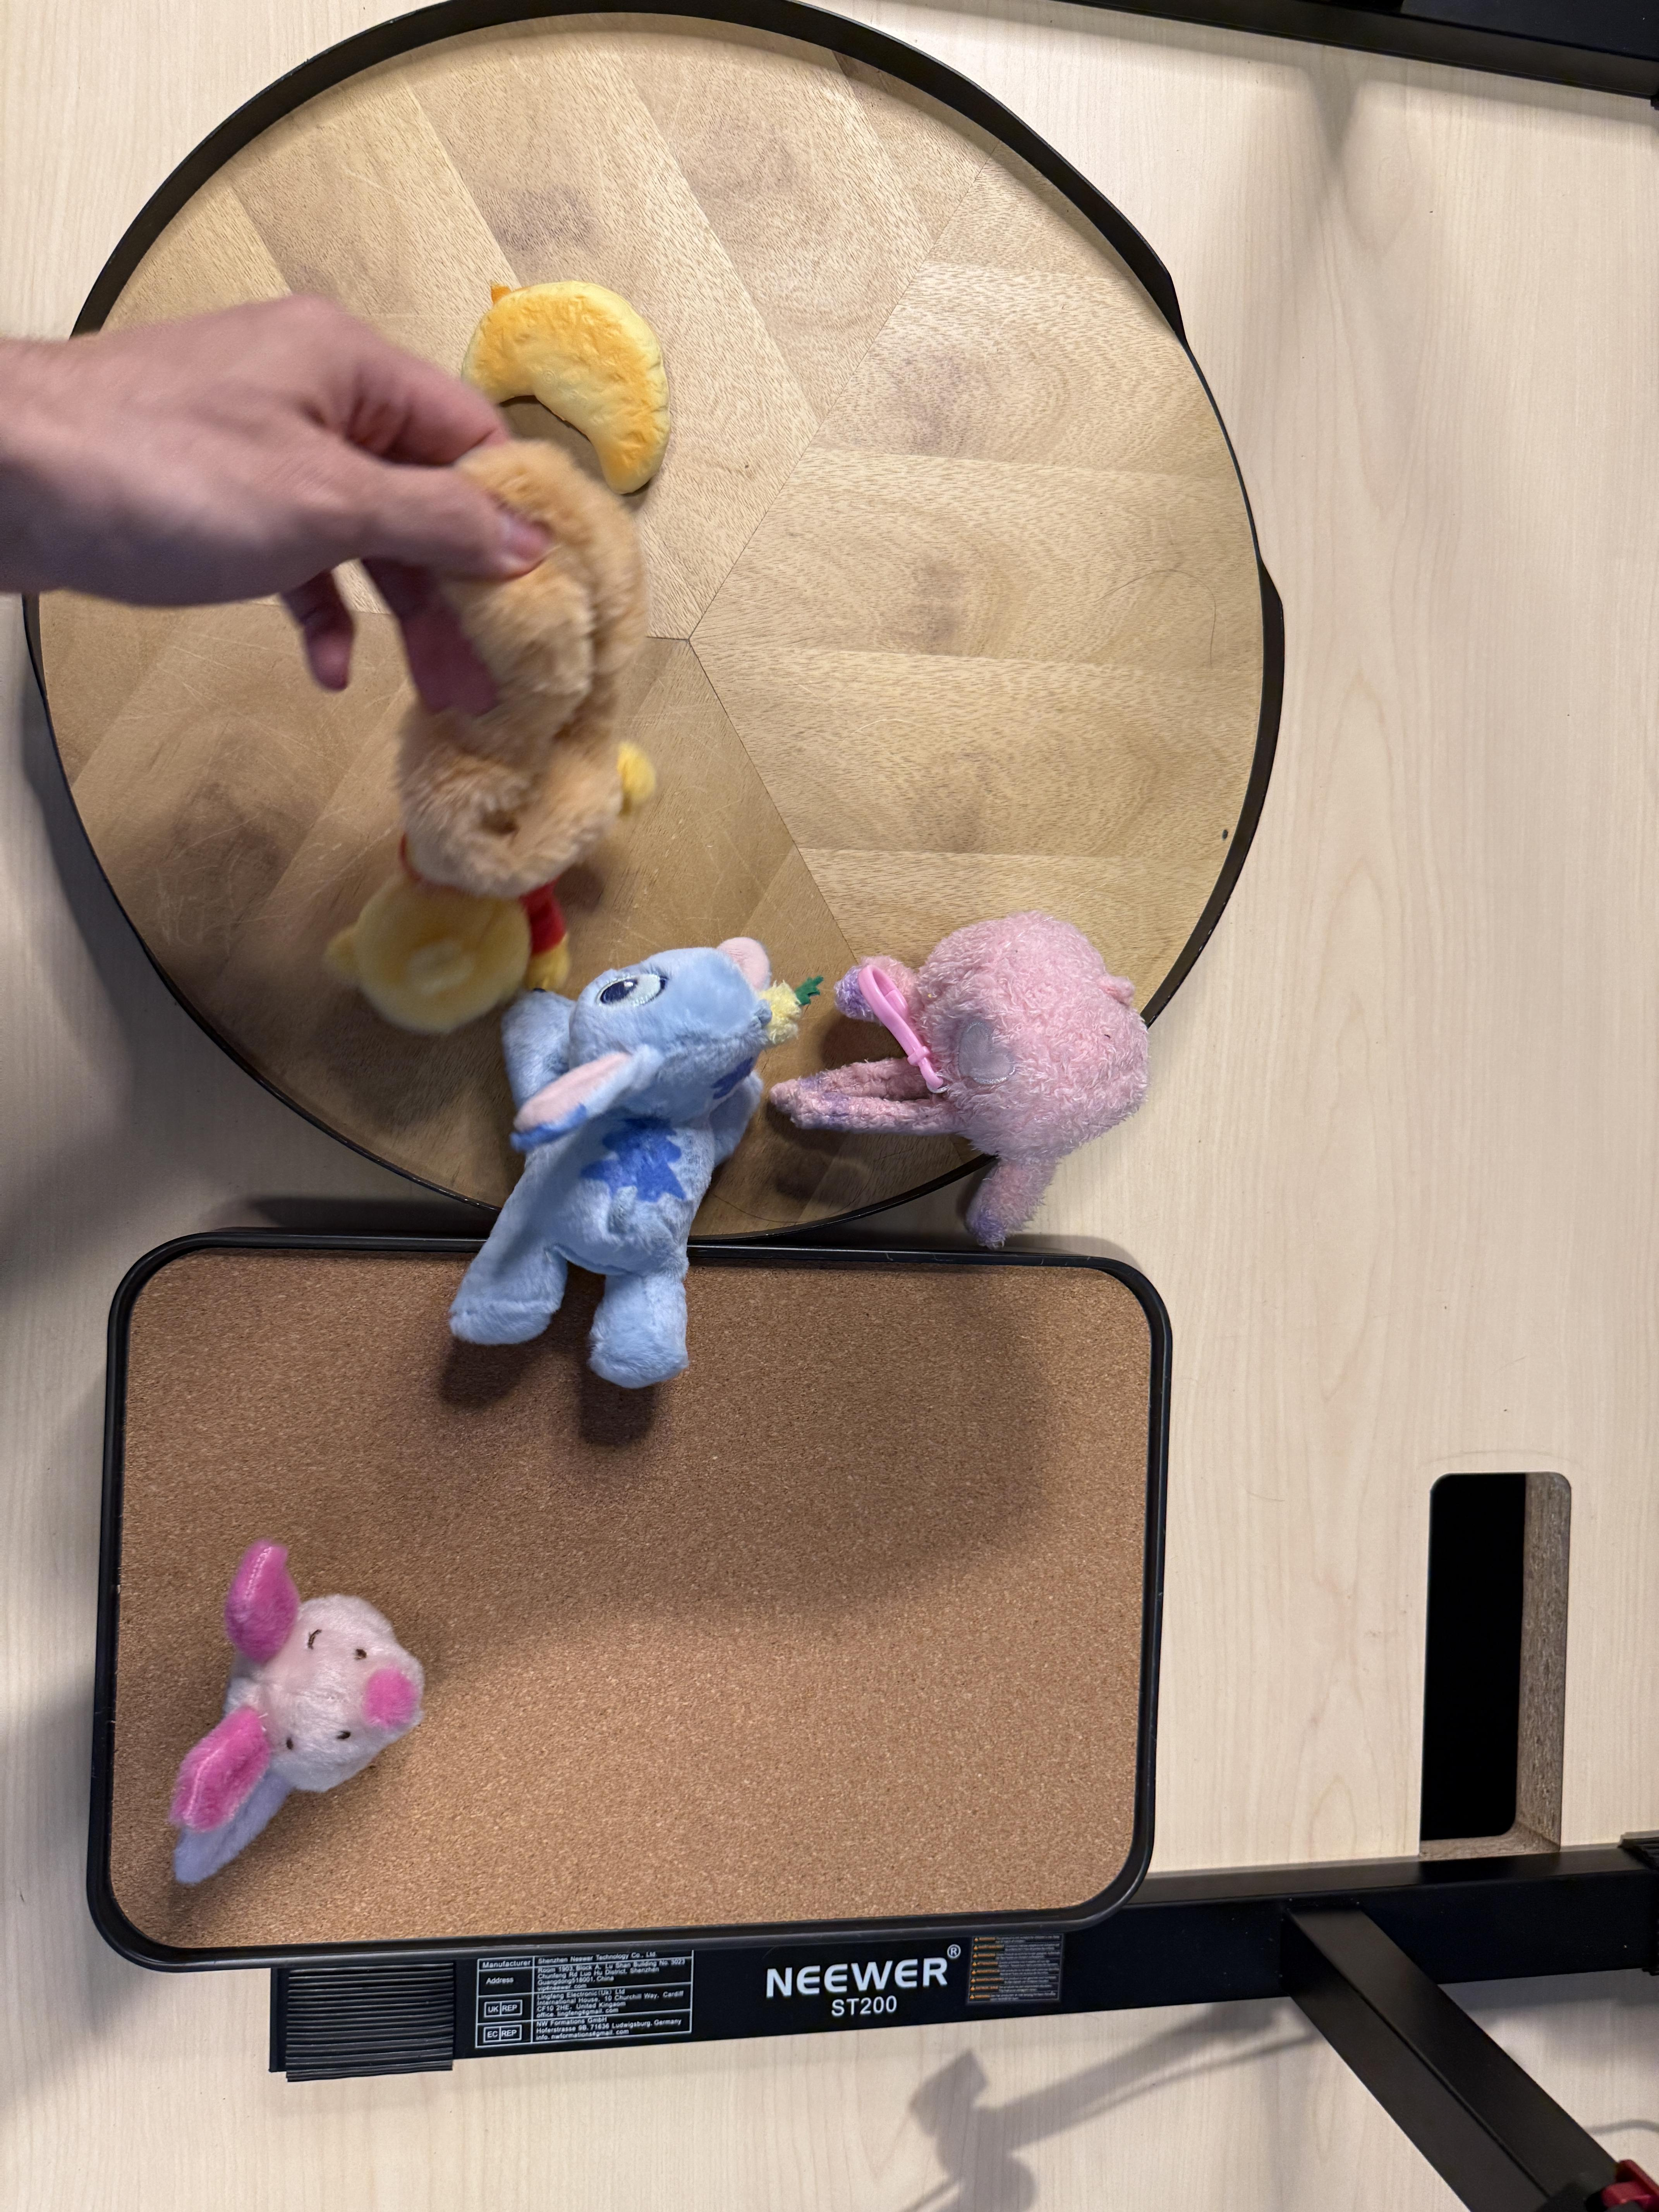bread: (457, 282, 688, 484)
doll: (336, 446, 655, 1033), (453, 930, 824, 1392), (782, 899, 1159, 1247), (162, 1545, 439, 1876)
